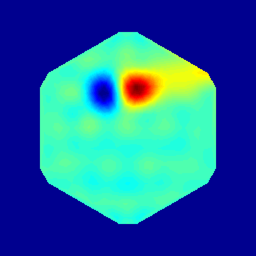ship: (95, 81, 123, 98)
wave: (119, 74, 178, 97)
